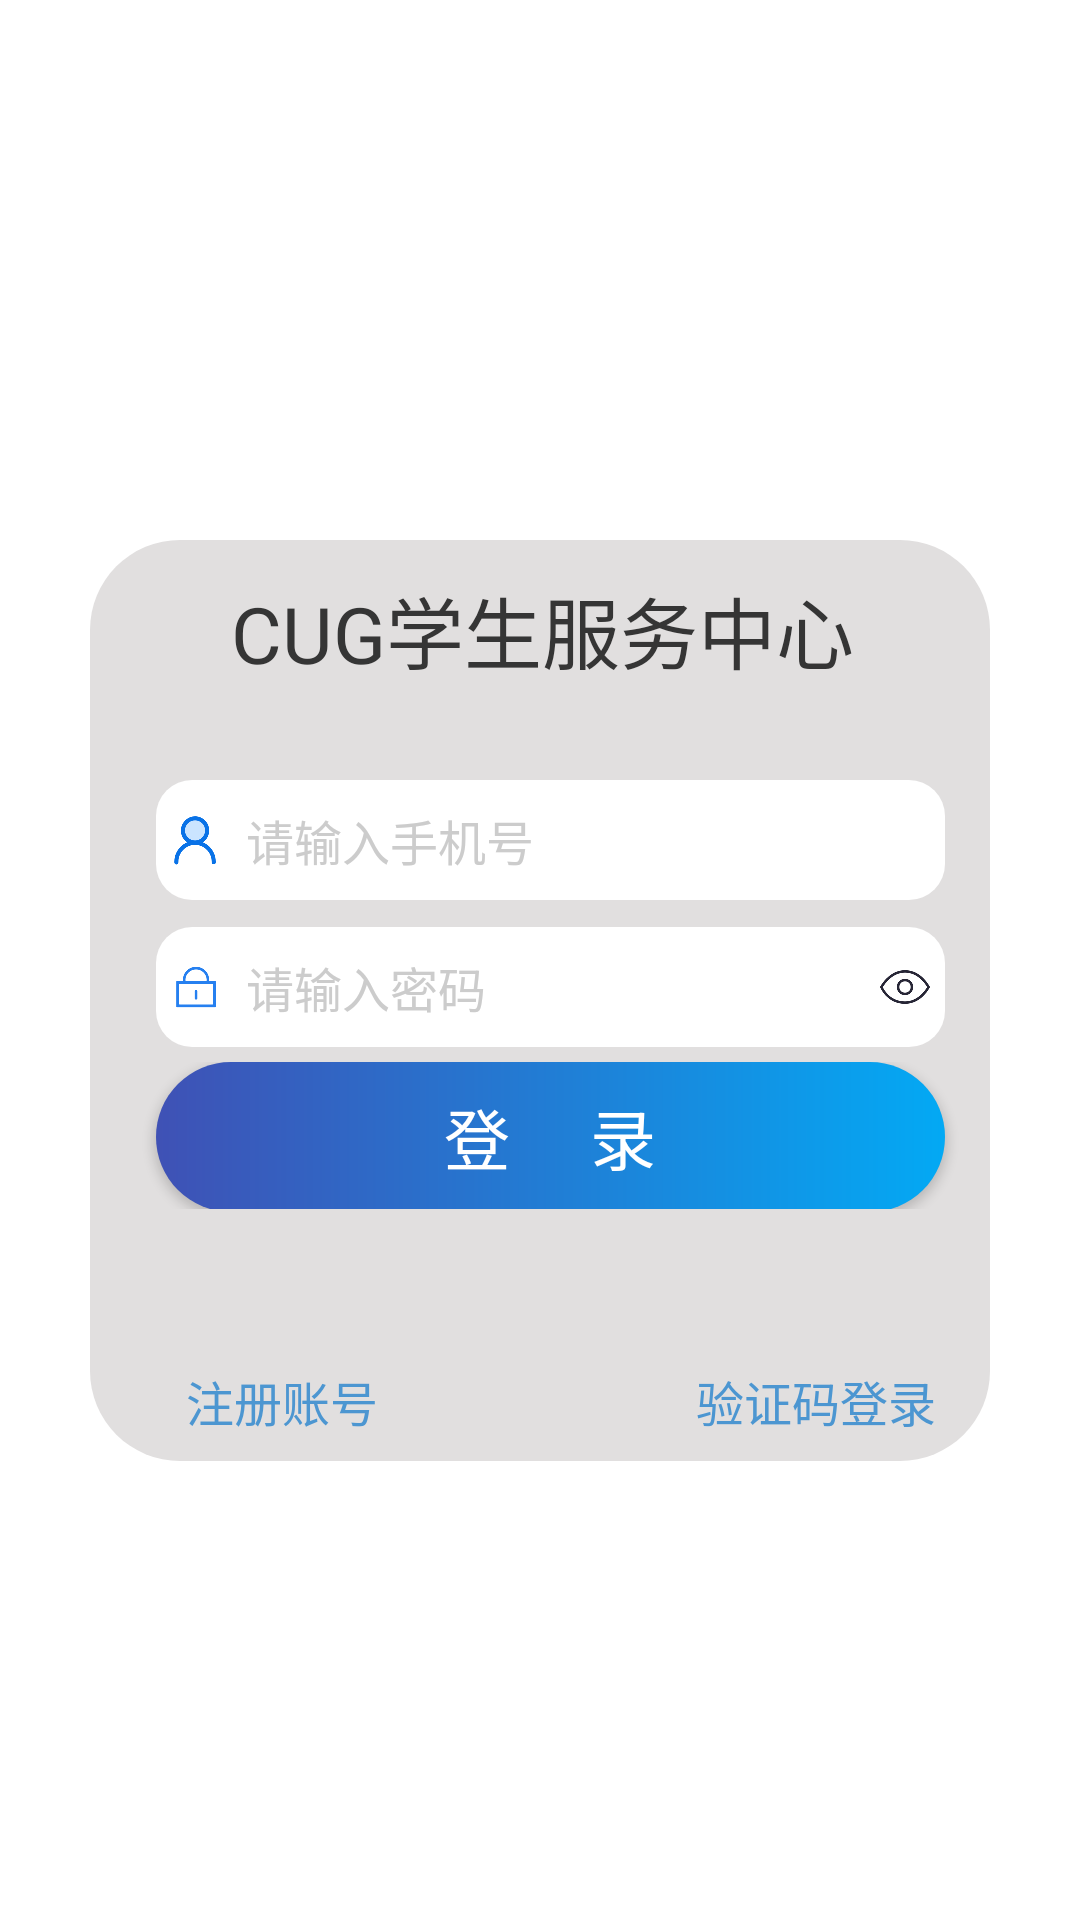

Screen size 1080w x 1920h. Icon name, then its box in pixels as (x1, y1, x2, y2):
password: (156, 927, 236, 1047)
seepas: (865, 927, 945, 1047)
user: (156, 780, 236, 900)
